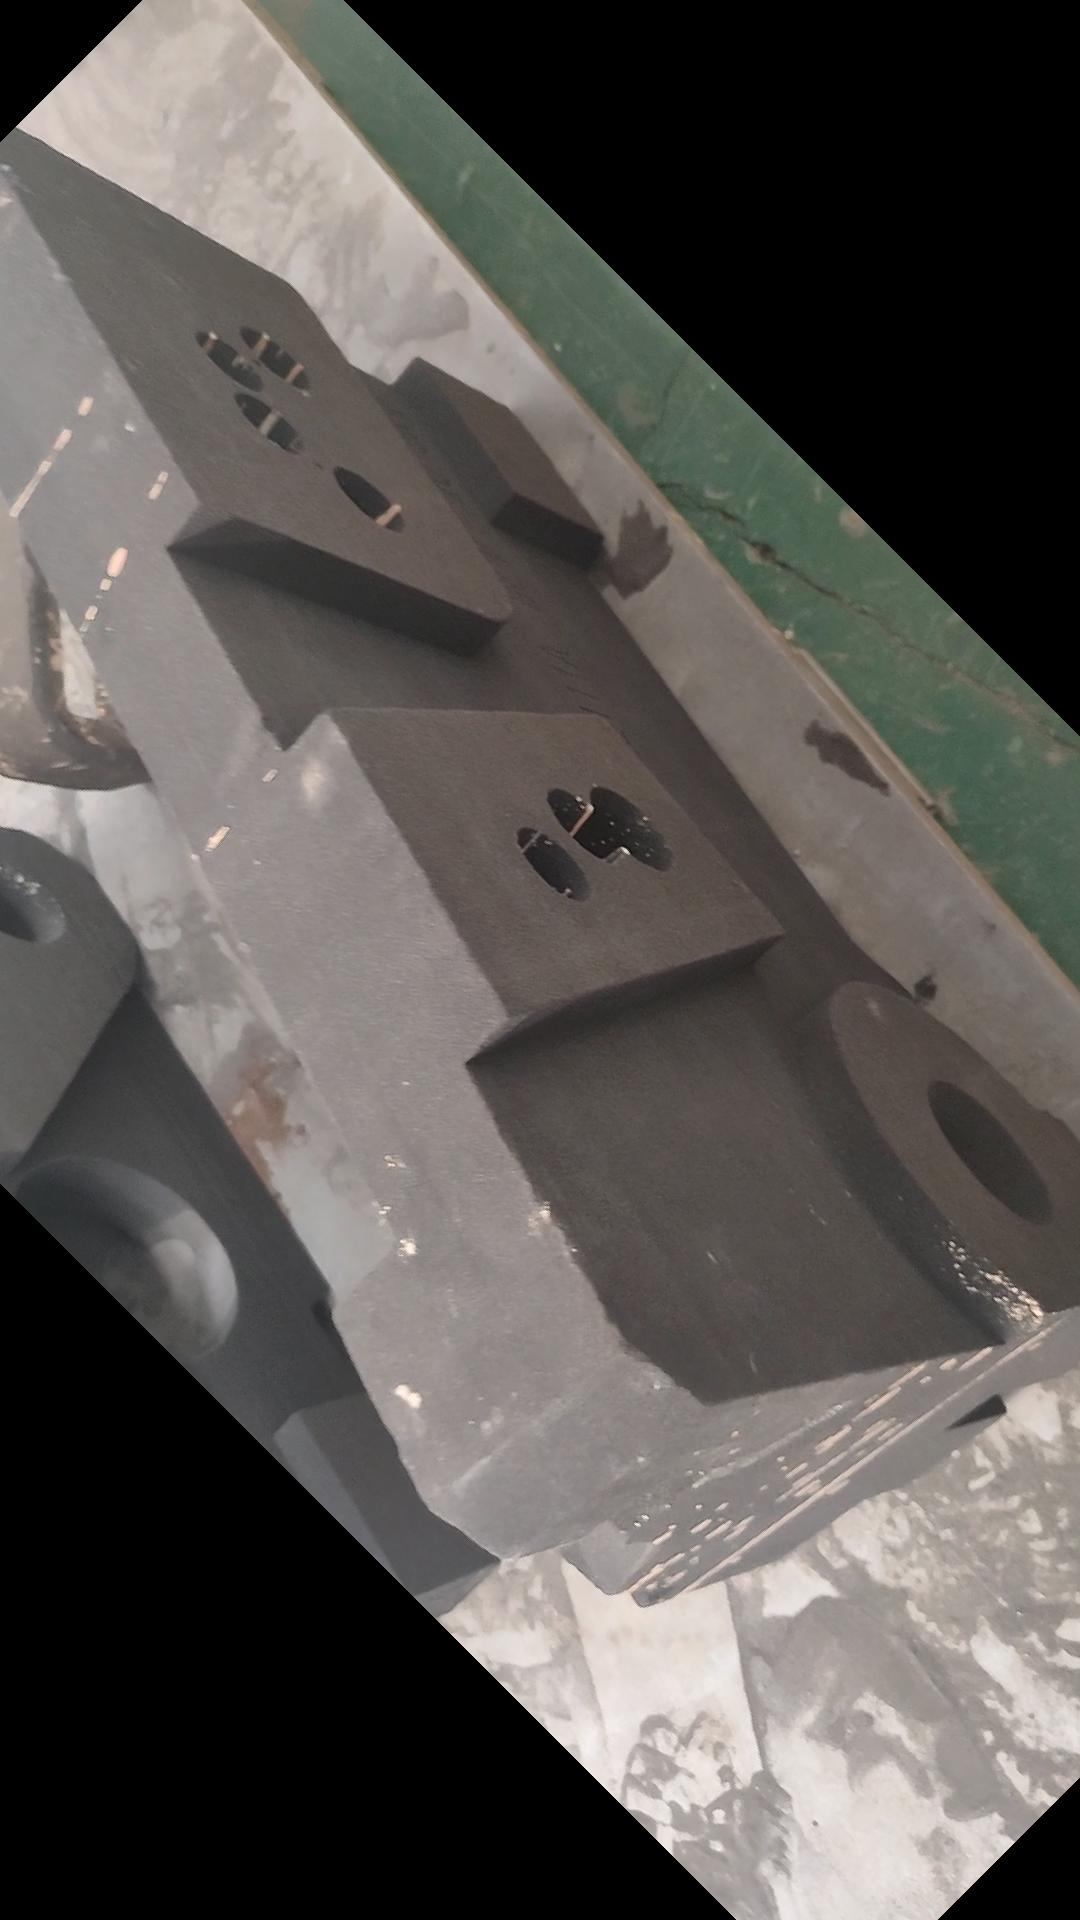pouring hole: (926, 1077, 1058, 1232), (3, 868, 71, 945)
